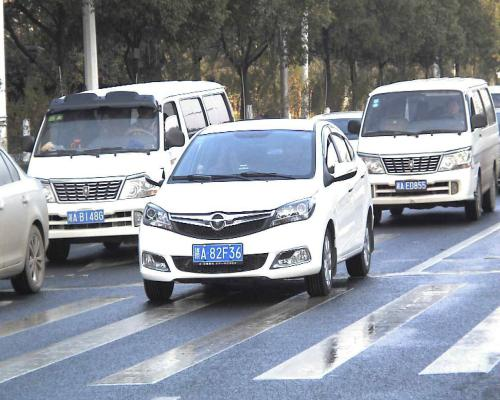Carplate: (189, 242, 248, 269), (65, 208, 107, 225), (390, 177, 431, 194)
